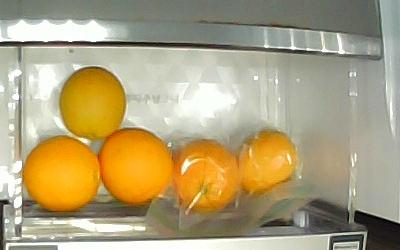orange: (24, 135, 101, 213), (98, 127, 174, 204), (59, 66, 127, 139)
orange_vinyl: (174, 139, 240, 212), (239, 130, 297, 197)
